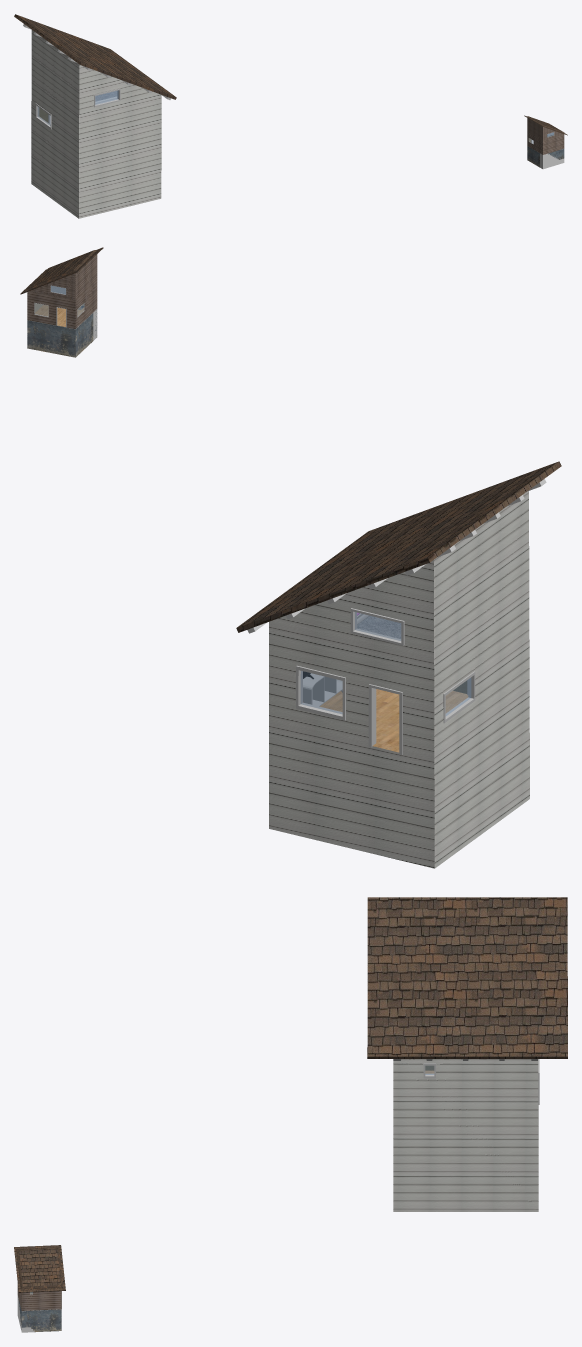
The model's file is furniture.gltf.
3 views of the same model, one above another, from view 1: azimuth 30°, elevation 25°; view 2: azimuth 150°, elevation 25°; view 3: azimuth 270°, elevation 25° (orthographic). The views are drawn at different scales.
Parts seen in each view (by area): view 1: house.001, house; view 2: house.001, house, tv table; view 3: house.001, house.
Part boxes in pixels (bbox=[...]): house.001: bbox=[14, 14, 176, 218]; house: bbox=[524, 115, 567, 169]; house.001: bbox=[236, 461, 561, 868]; house: bbox=[20, 247, 103, 357]; tv table: bbox=[303, 673, 342, 706]; house.001: bbox=[367, 897, 567, 1211]; house: bbox=[14, 1245, 65, 1332].
Size of the model in its own units: 23.64 by 9.91 by 20.
